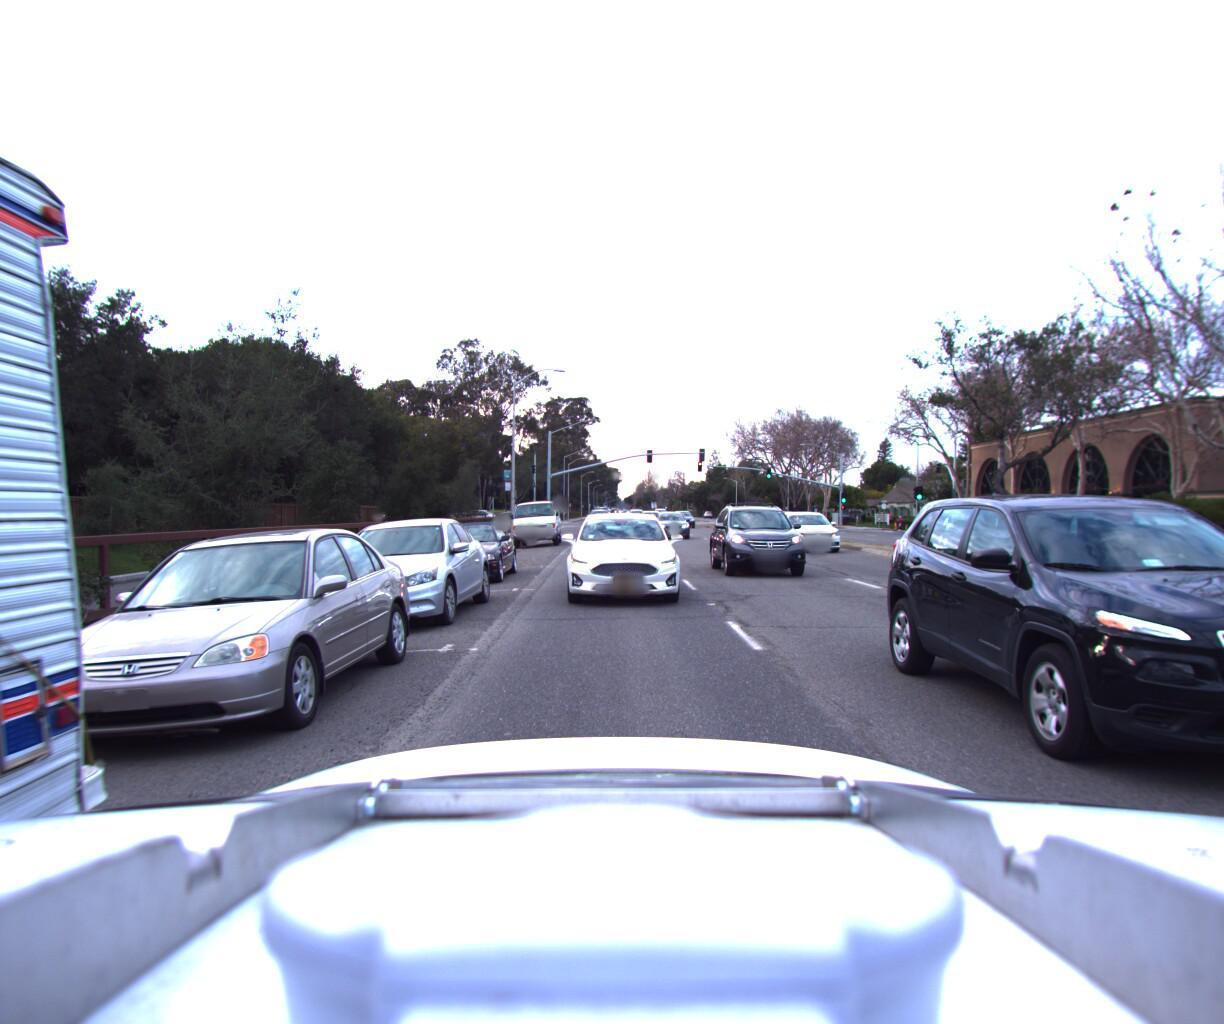car: (924, 380, 1224, 946), (0, 517, 422, 767), (294, 511, 497, 636), (554, 504, 687, 616), (712, 492, 823, 580), (418, 516, 521, 589), (779, 510, 863, 556), (646, 506, 692, 538), (632, 509, 663, 530)
truck: (508, 494, 562, 545)
